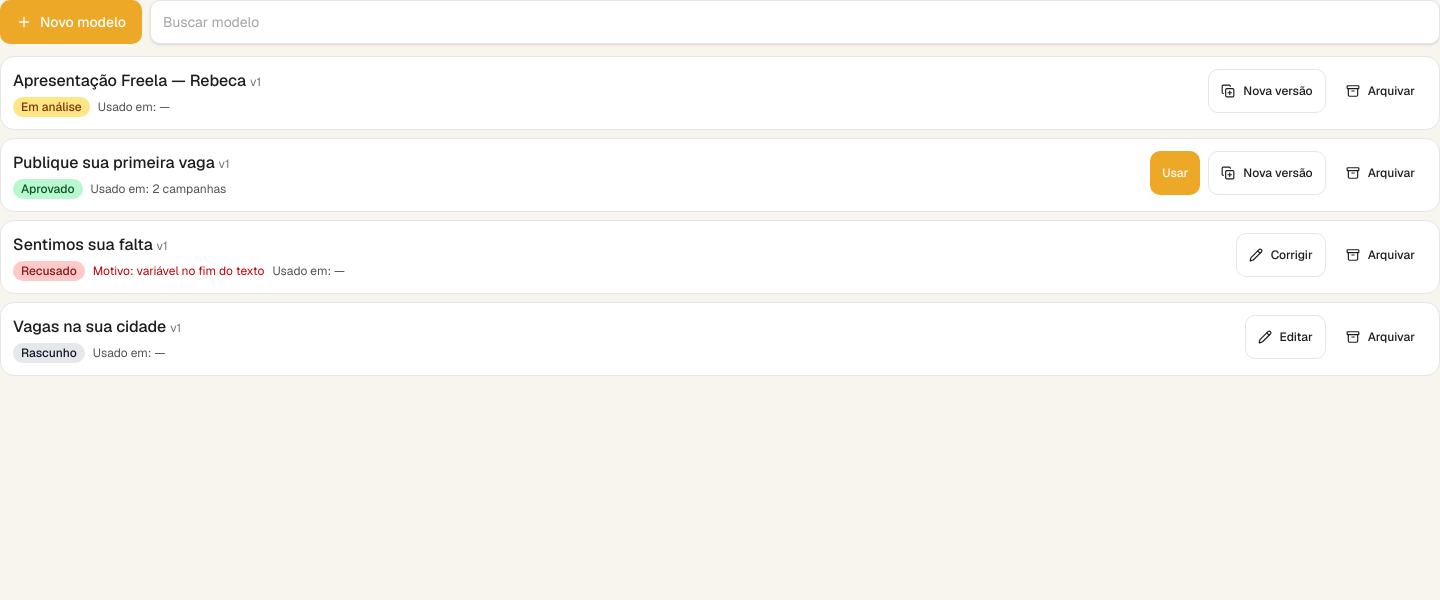
Test: MarketingTemplatesTab › Corrigir abre o editor no recusado
Expected: the text "Sentimos sua falta" is shown, [13,234,153,255]
Click the button "Corrigir" at (1281, 255), box [1236,233,1326,277]
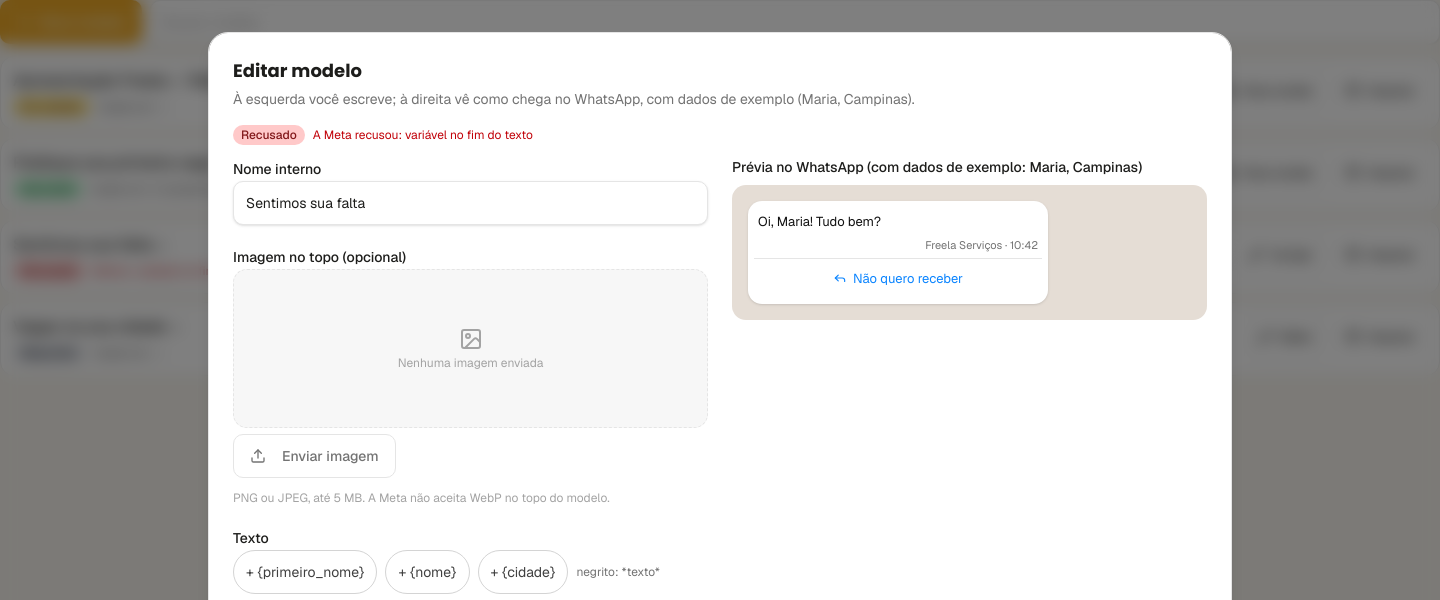
Expected: the text "A Meta recusou: variável no fim do texto" is shown, [313,127,533,143]
